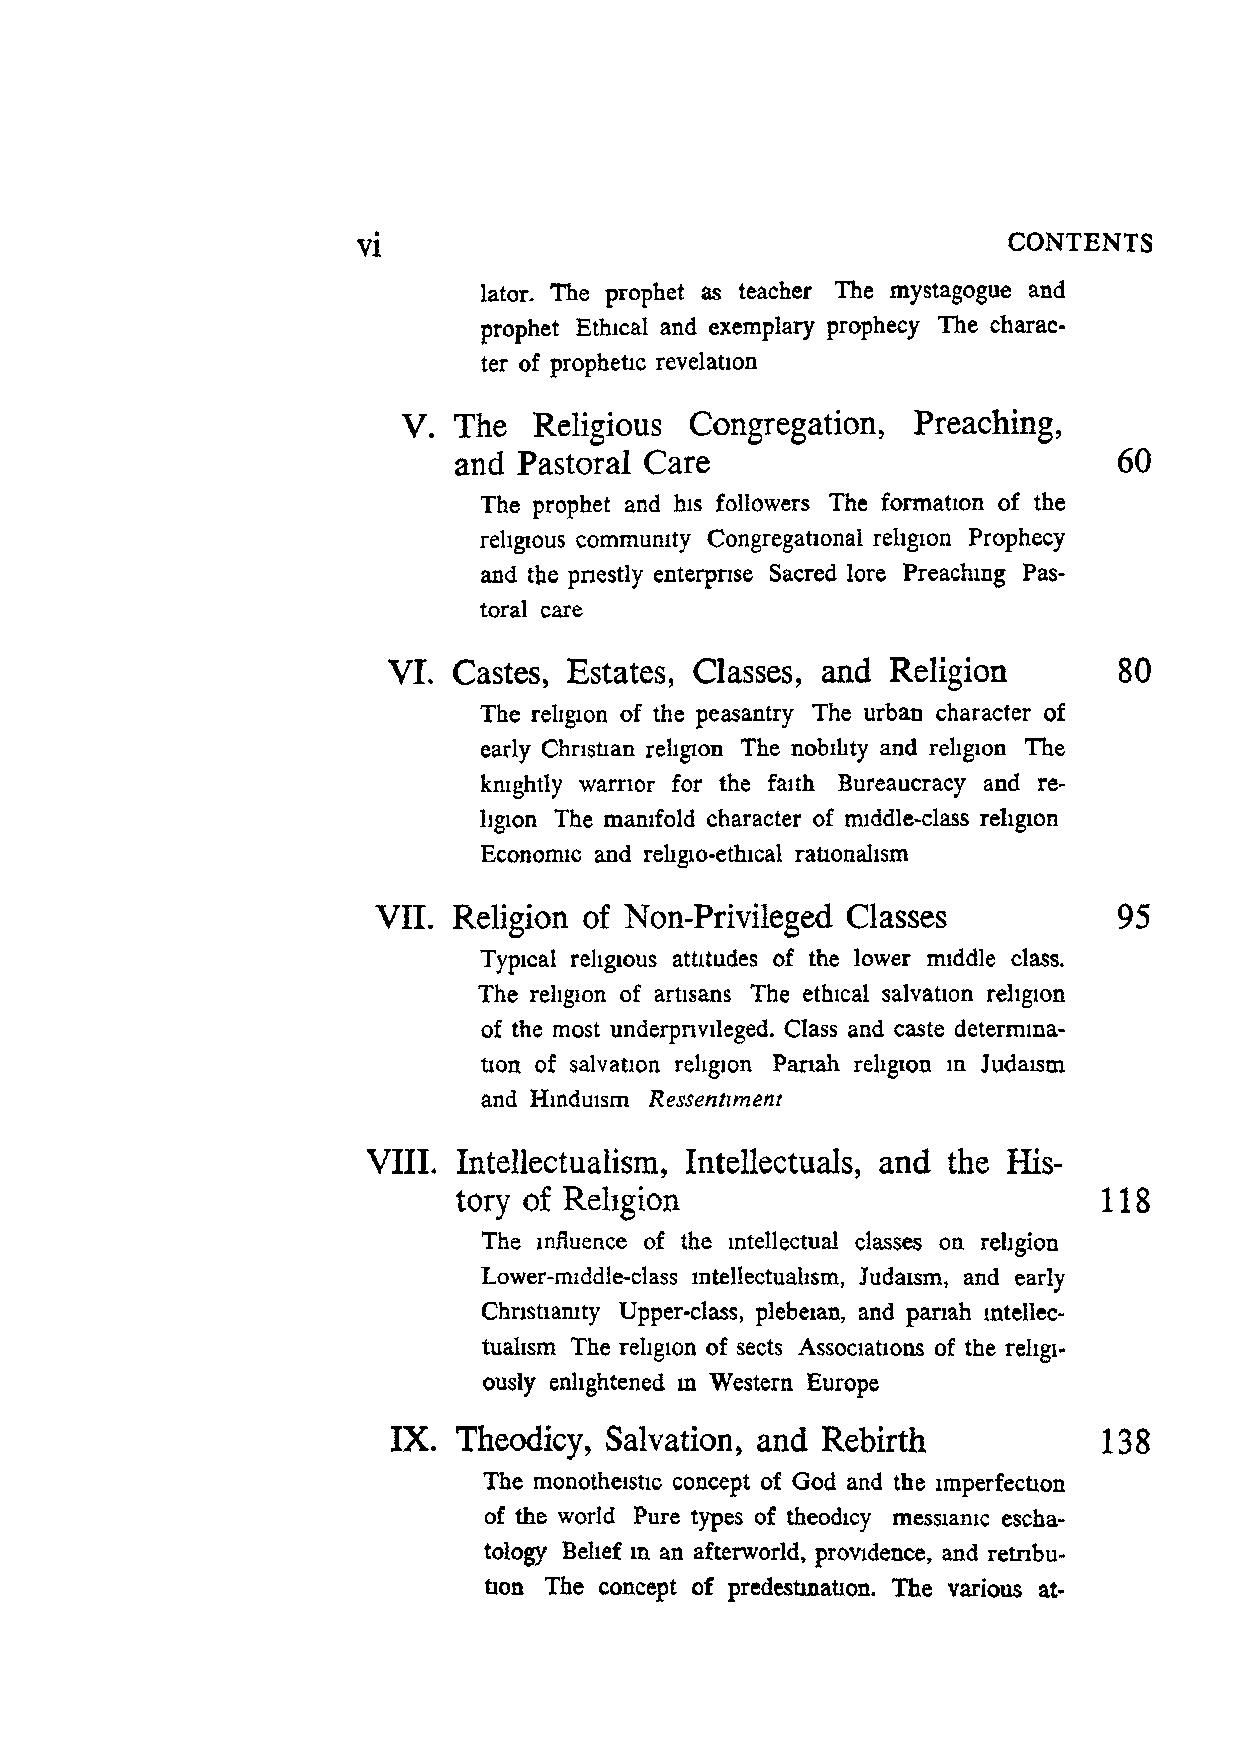TOC_chapter: (361, 1141, 1078, 1398), (368, 891, 1078, 1125), (382, 647, 1072, 884), (400, 404, 1074, 628), (372, 1417, 1074, 1614), (474, 272, 1068, 377)
TOC_pagenumber: (1091, 1410, 1172, 1469), (1098, 1170, 1162, 1224), (1102, 641, 1161, 694), (1111, 888, 1161, 937), (1111, 429, 1159, 476)
chapter: (1000, 217, 1153, 258)
